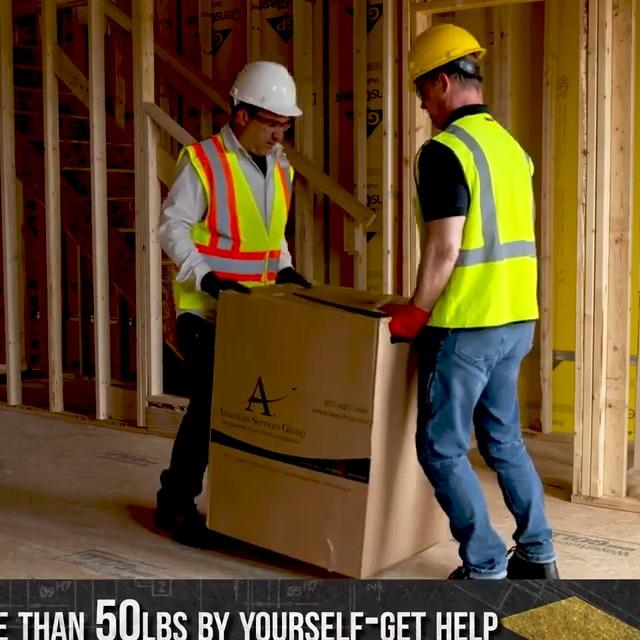Gloves: (378, 301, 431, 336), (200, 270, 252, 300), (276, 265, 313, 288)
Hardhat: (402, 23, 487, 91), (229, 59, 303, 118)
NO-Mask: (241, 121, 275, 157), (427, 88, 453, 128)
Person: (386, 26, 562, 580), (154, 61, 311, 543)
Safety Vest: (410, 111, 545, 328), (168, 131, 296, 304)
